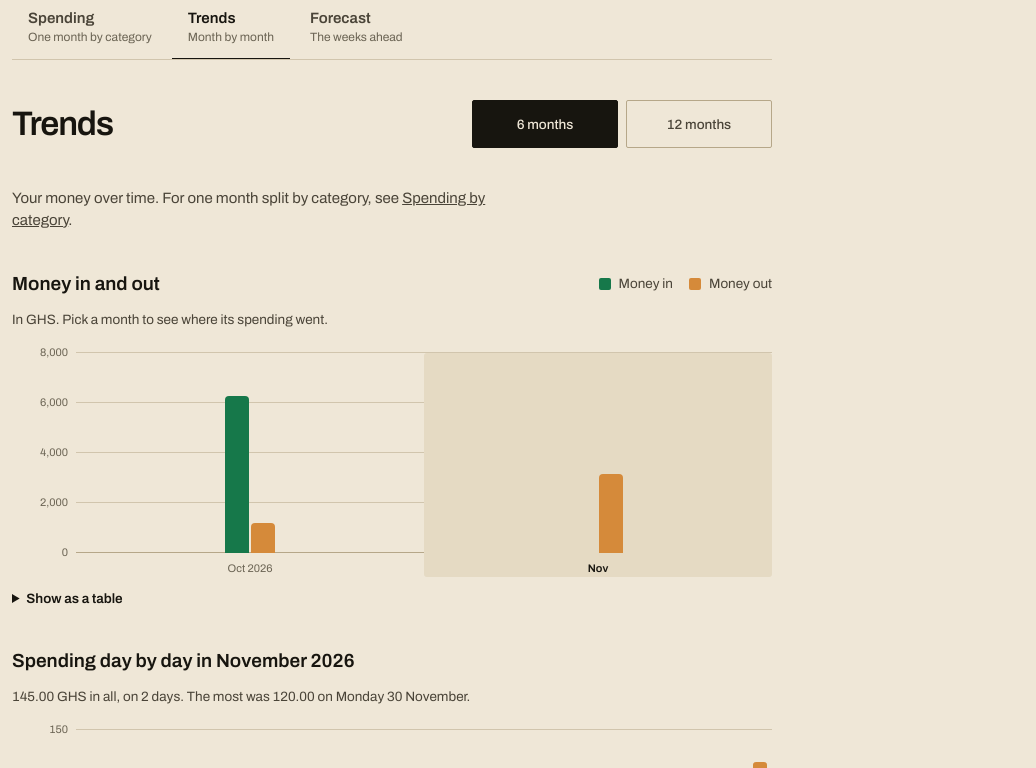
Test case: ChartsScreen › switches the category chart to a month you pick, and remembers it in the address
Click the button with aria-label "money in 6,300.00".
click(250, 465)  # box [76,353,424,577]
(page scrolled)
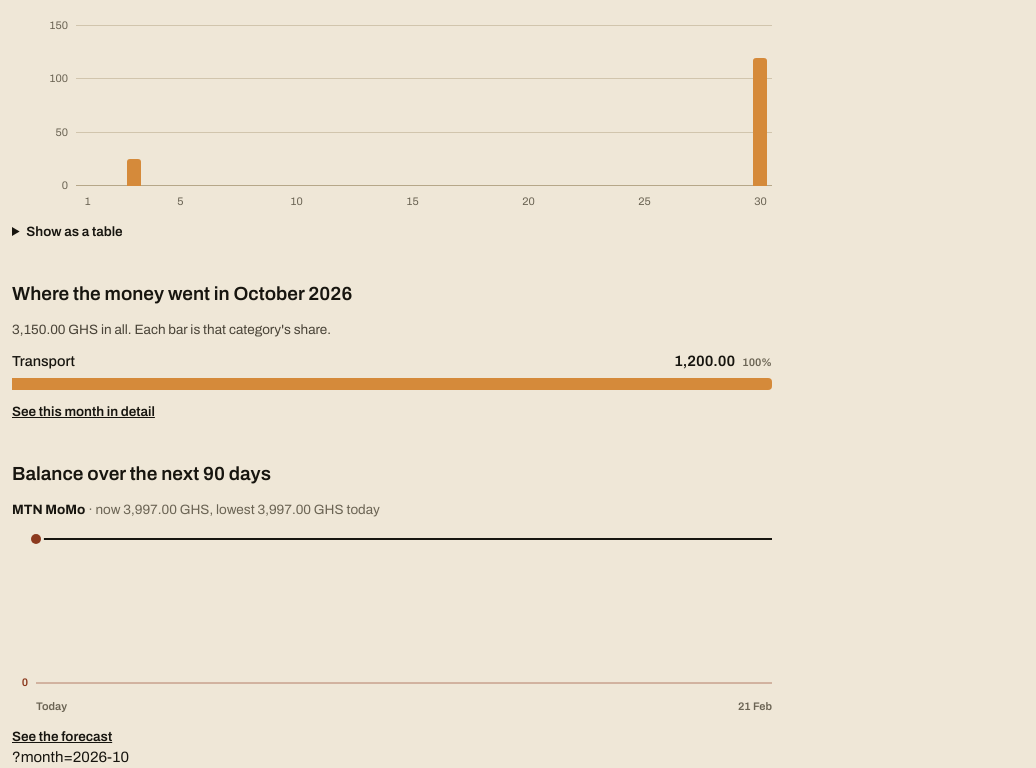
Expected: the text "Transport" is shown, [12,353,75,369]
